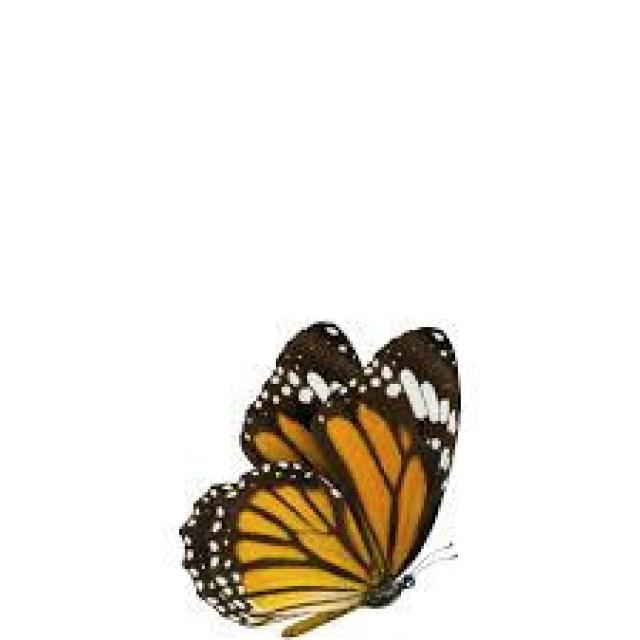butterfly: (182, 321, 461, 634)
